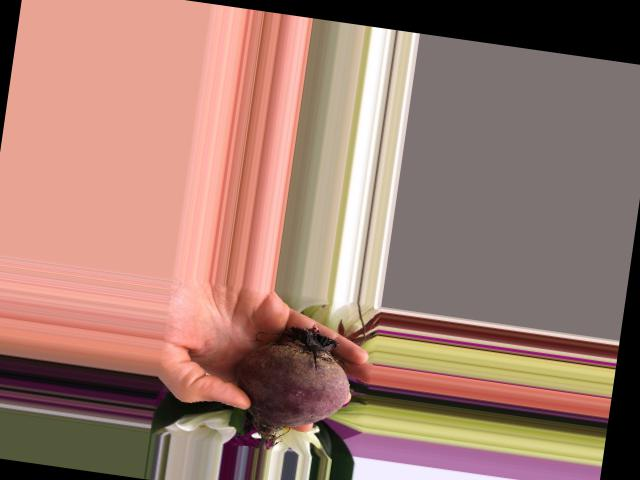beet: (227, 315, 358, 460)
